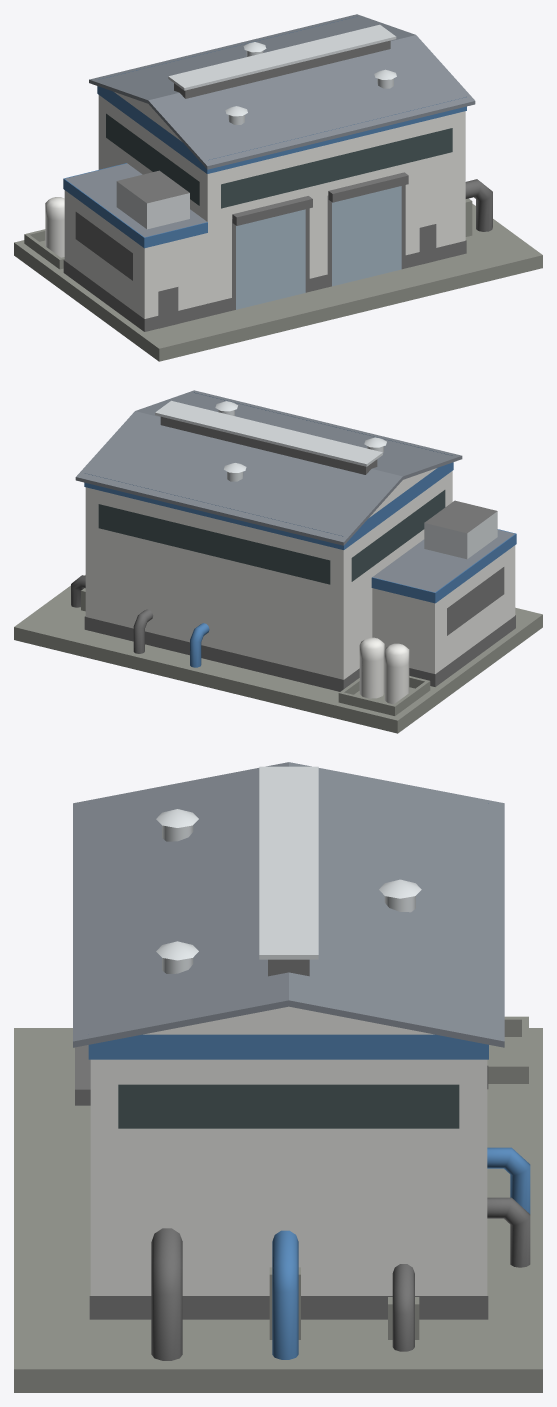
Rendered from mashup-main-top-prebuilt.fbx.
3 renders of one model, top to bottom at view 1: azimuth 30°, elevation 25°; view 2: azimuth 150°, elevation 25°; view 3: azimuth 270°, elevation 25°, orthographic. The views are drawn at different scales.
Visible parts, largest first — view 1: a1074/0/mashup-main-top-prebuilt; view 2: a1074/0/mashup-main-top-prebuilt; view 3: a1074/0/mashup-main-top-prebuilt.
Part boxes in pixels (x1,y1,x2,y2): a1074/0/mashup-main-top-prebuilt: (14, 14, 542, 361); a1074/0/mashup-main-top-prebuilt: (14, 390, 542, 733); a1074/0/mashup-main-top-prebuilt: (14, 762, 542, 1392).
Size of the model in its own units: 23.2 by 11.65 by 15.2.
